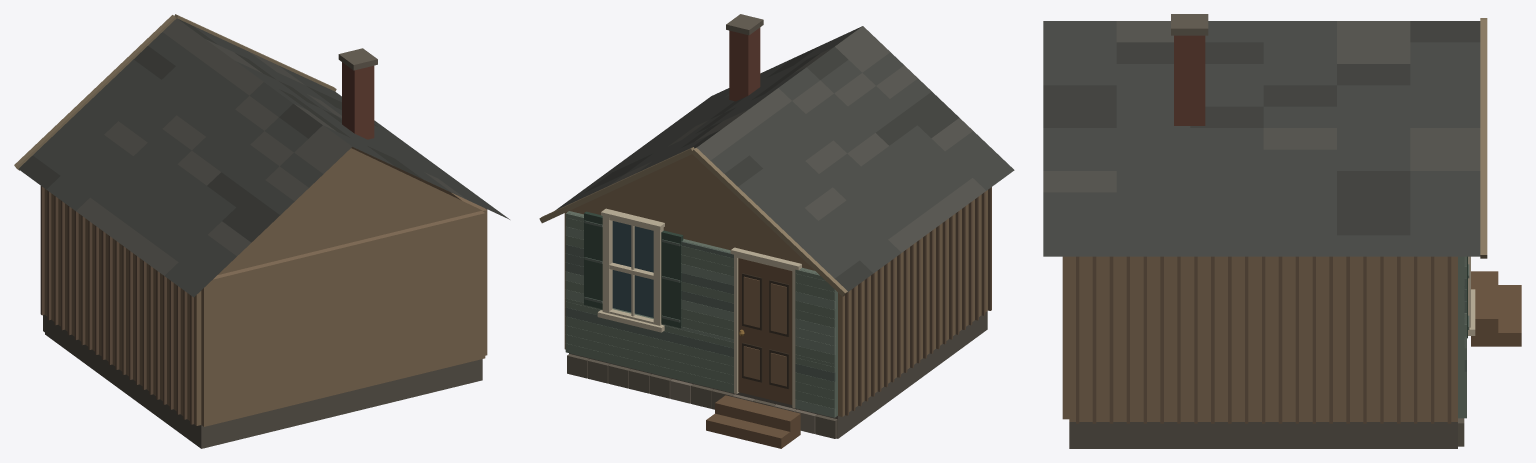
Rendered from black_creek_cottage_a.glb.
The picture shows the model from 3 angles, left to right: view 1: azimuth 30°, elevation 25°; view 2: azimuth 150°, elevation 25°; view 3: azimuth 270°, elevation 25°; orthographic projection. The views are drawn at different scales.
Visible parts, largest first — view 1: black_creek_cottage_a; view 2: black_creek_cottage_a; view 3: black_creek_cottage_a.
Part boxes in pixels (left/top/right/bottom): black_creek_cottage_a: left=14, top=14, right=509, bottom=448; black_creek_cottage_a: left=539, top=14, right=1014, bottom=448; black_creek_cottage_a: left=1043, top=14, right=1521, bottom=448.
Bounding box in the file's own units: 5.16 × 4.73 × 5.38.
